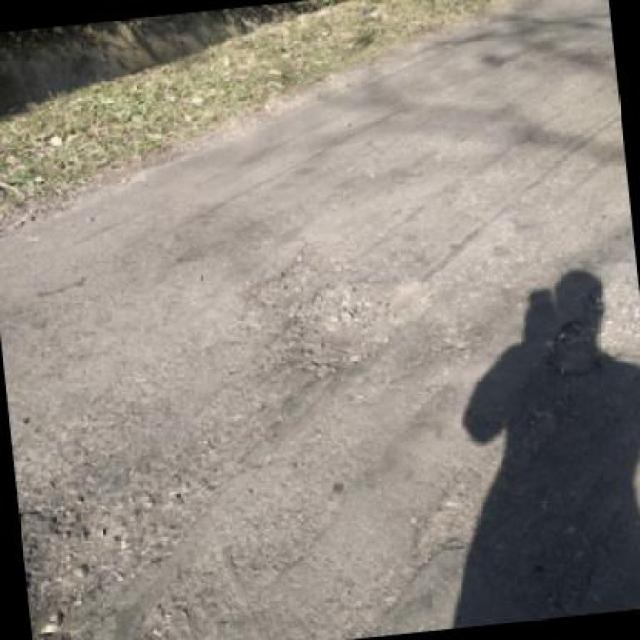pothole1: (279, 268, 441, 382), (20, 509, 138, 628), (238, 233, 351, 307)
